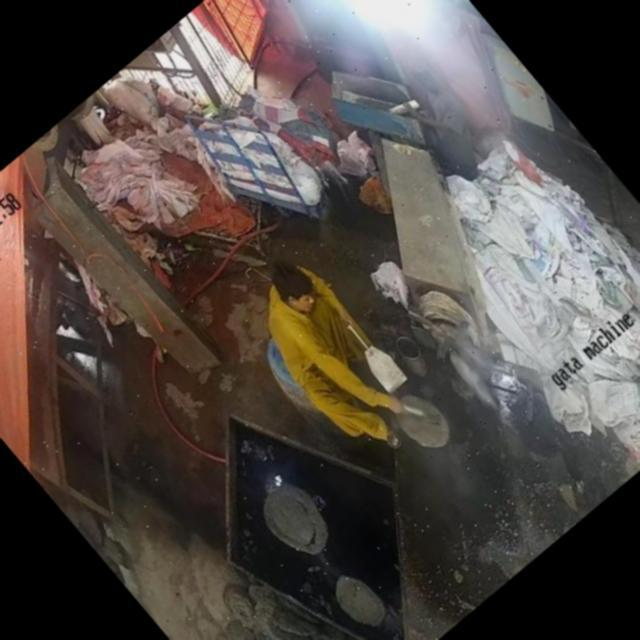person: (230, 250, 439, 476)
